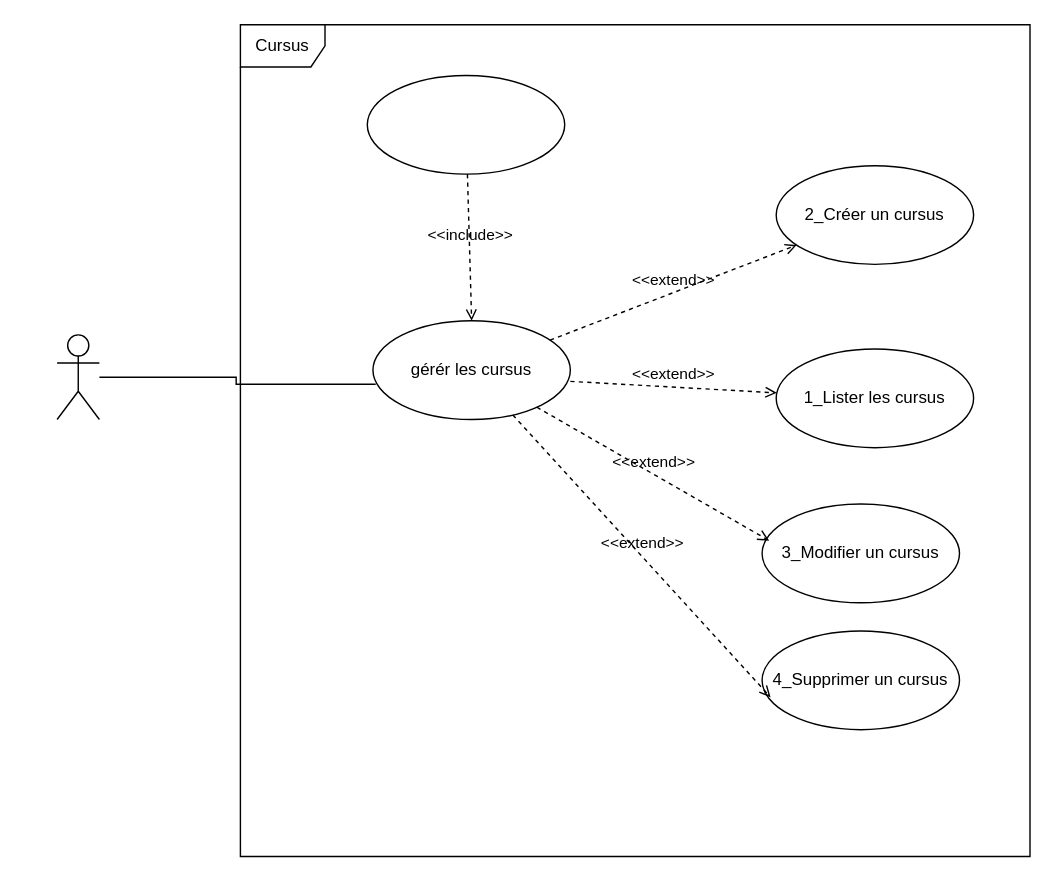
This 1055x881 diagram has some shape labels left out. The shapes that lost their labels are listed below. From the top down, each one's centre as x and y in pixels, then its label:
At (x=465, y=124): "Se connecter".
At (x=77, y=376): "administrateur".
